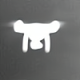plane: (4, 18, 66, 53)
